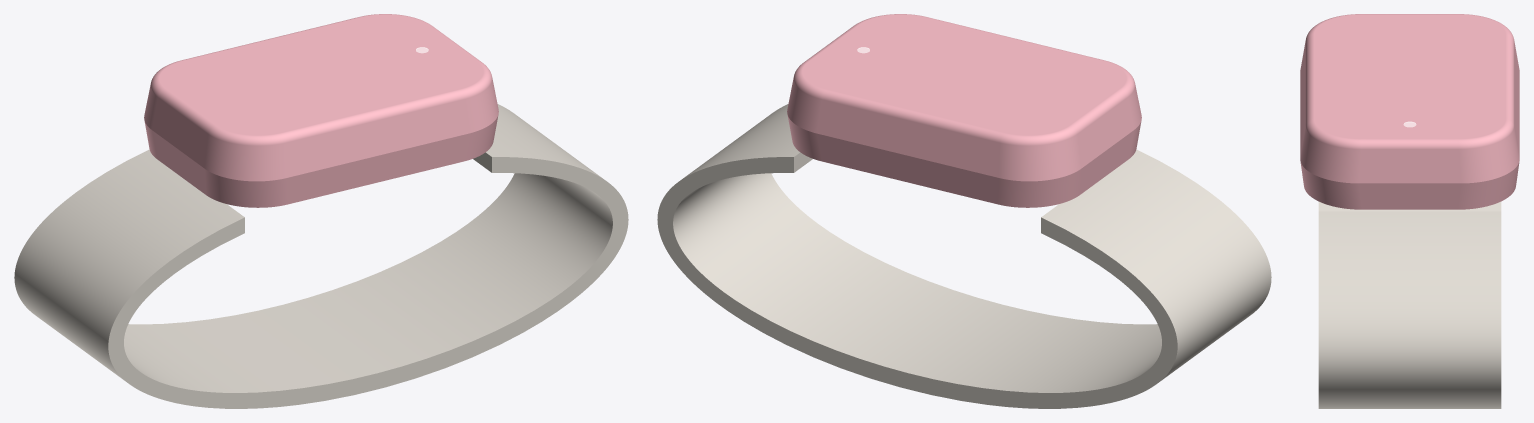
Rendered from anatomy_v3.glb.
3 renders of one model, left to right at view 1: azimuth 30°, elevation 25°; view 2: azimuth 150°, elevation 25°; view 3: azimuth 270°, elevation 25°, orthographic. The views are drawn at different scales.
Parts seen in each view (by area): view 1: fabric.1, body.2, body.1; view 2: fabric.1, body.2, body.1; view 3: fabric.1, body.2, body.1.
Part boxes in pixels (x1,y1,x2,y2): fabric.1: [14, 104, 628, 408]; body.2: [144, 14, 498, 181]; body.1: [144, 115, 498, 207]; fabric.1: [657, 104, 1271, 408]; body.2: [787, 14, 1141, 181]; body.1: [787, 115, 1141, 207]; fabric.1: [1318, 201, 1501, 408]; body.2: [1300, 14, 1519, 183]; body.1: [1300, 162, 1519, 209].
Bounding box in the file's own units: 0.08 × 0.0416 × 0.03.
